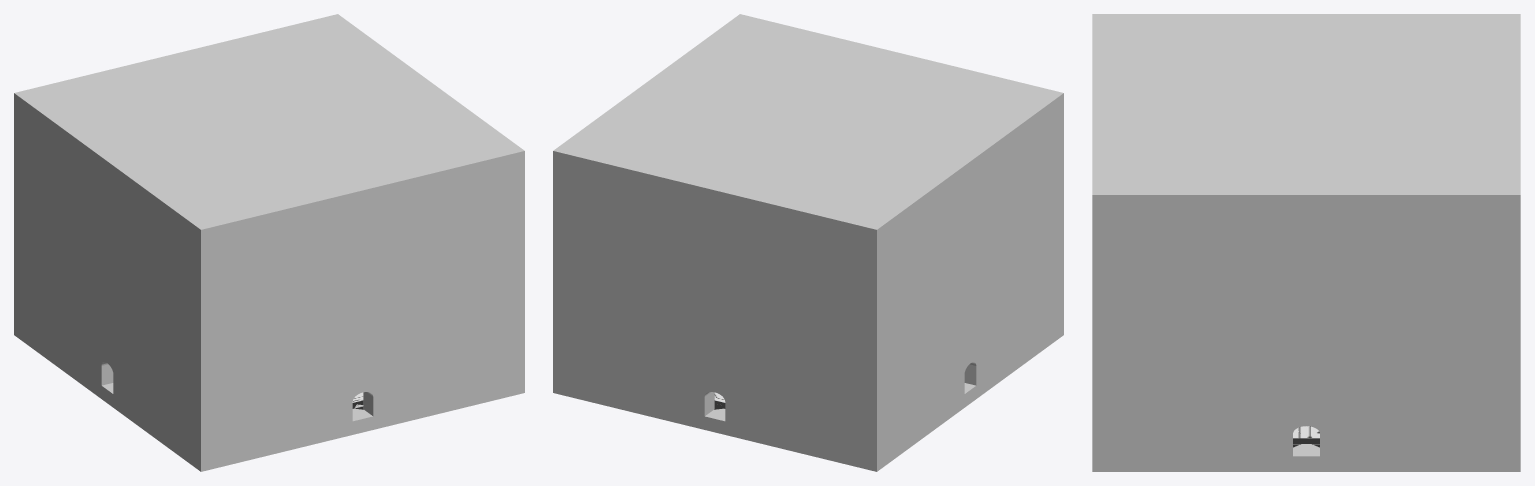
Rendered from 50Room.fbx.
The picture shows the model from 3 angles, left to right: view 1: azimuth 30°, elevation 25°; view 2: azimuth 150°, elevation 25°; view 3: azimuth 270°, elevation 25°; orthographic projection. The views are drawn at different scales.
Parts seen in each view (by area): view 1: Cube; view 2: Cube; view 3: Cube.
Boxes of the visible parts, x1,y1,x2,y2 form: Cube: [14, 14, 524, 471]; Cube: [553, 14, 1063, 471]; Cube: [1092, 14, 1520, 471].
Size of the model in its own units: 5000 by 3571 by 5000.
